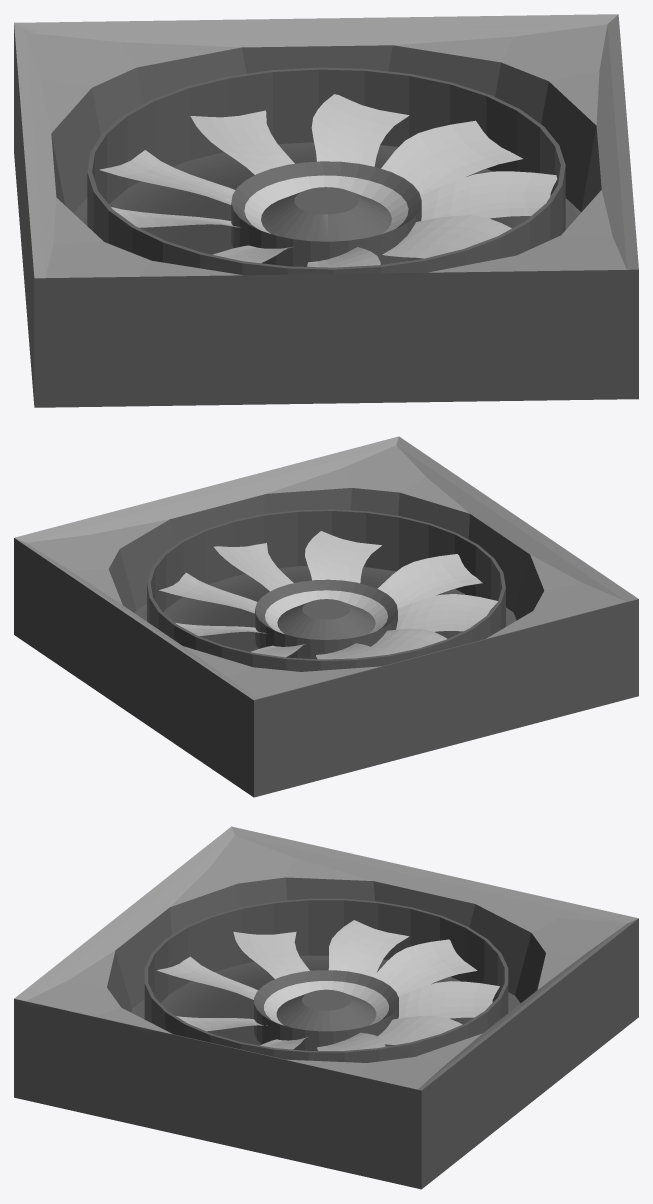
File: Fan.fbx
3 renders of one model, top to bottom at view 1: azimuth 30°, elevation 25°; view 2: azimuth 150°, elevation 25°; view 3: azimuth 270°, elevation 25°, orthographic. The views are drawn at different scales.
Visible parts, largest first — view 1: Fan; view 2: Fan; view 3: Fan.
Boxes of the visible parts, x1=… form: Fan: x1=14, y1=14, x2=638, y2=407; Fan: x1=14, y1=436, x2=638, y2=797; Fan: x1=14, y1=826, x2=638, y2=1189.
Bounding box in the file's own units: 577 × 104 × 577.
